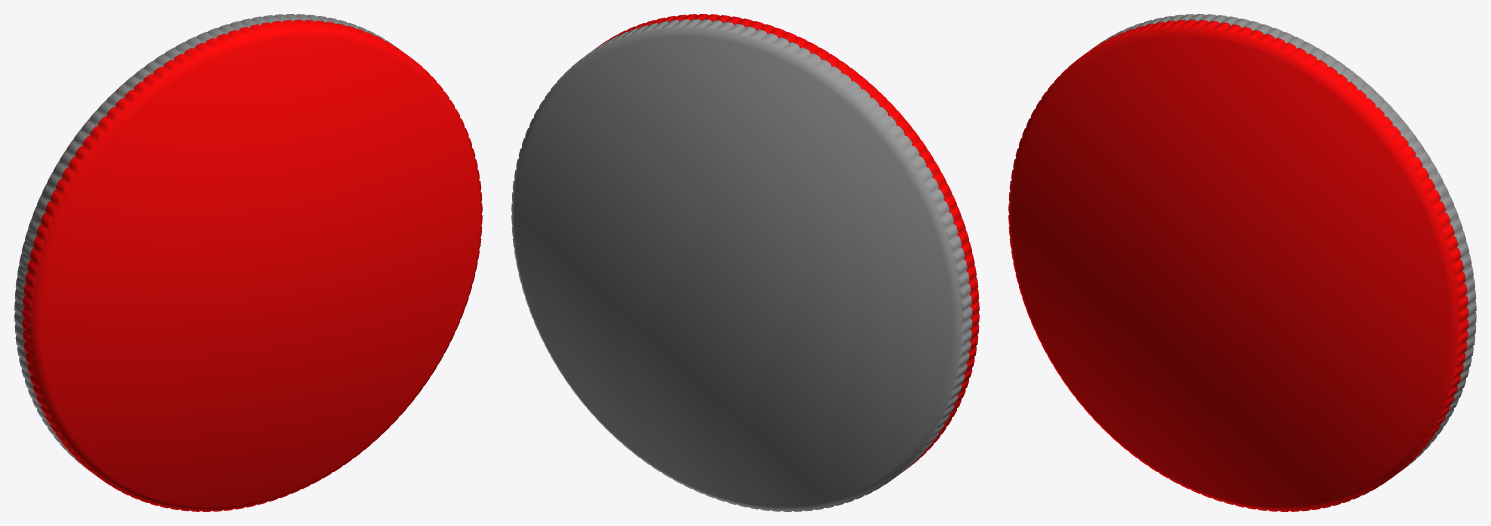
Rendered from dirham.fbx.
3 views of the same model, side by side, from view 1: azimuth 30°, elevation 25°; view 2: azimuth 150°, elevation 25°; view 3: azimuth 330°, elevation 25° (orthographic).
Visible parts, largest first — view 1: Object__0, Object__001; view 2: Object__001, Object__0; view 3: Object__0, Object__001.
Boxes of the visible parts, left/top/right/bottom form: Object__0: left=22, top=20, right=482, bottom=511; Object__001: left=14, top=14, right=398, bottom=471; Object__001: left=511, top=19, right=972, bottom=511; Object__0: left=598, top=14, right=979, bottom=470; Object__0: left=1008, top=20, right=1468, bottom=511; Object__001: left=1092, top=14, right=1476, bottom=471.
Size of the model in its own units: 3.09 by 3.09 by 0.28.
